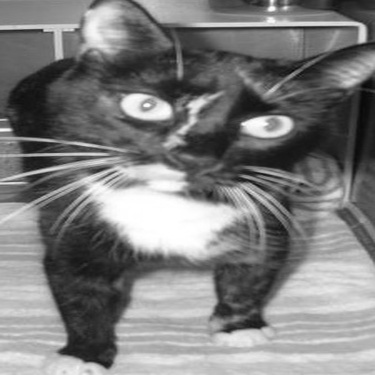cat: (14, 2, 367, 372)
